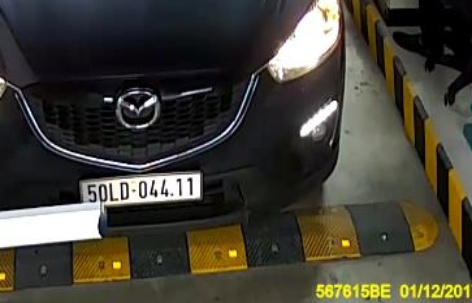plate: (77, 172, 208, 207)
